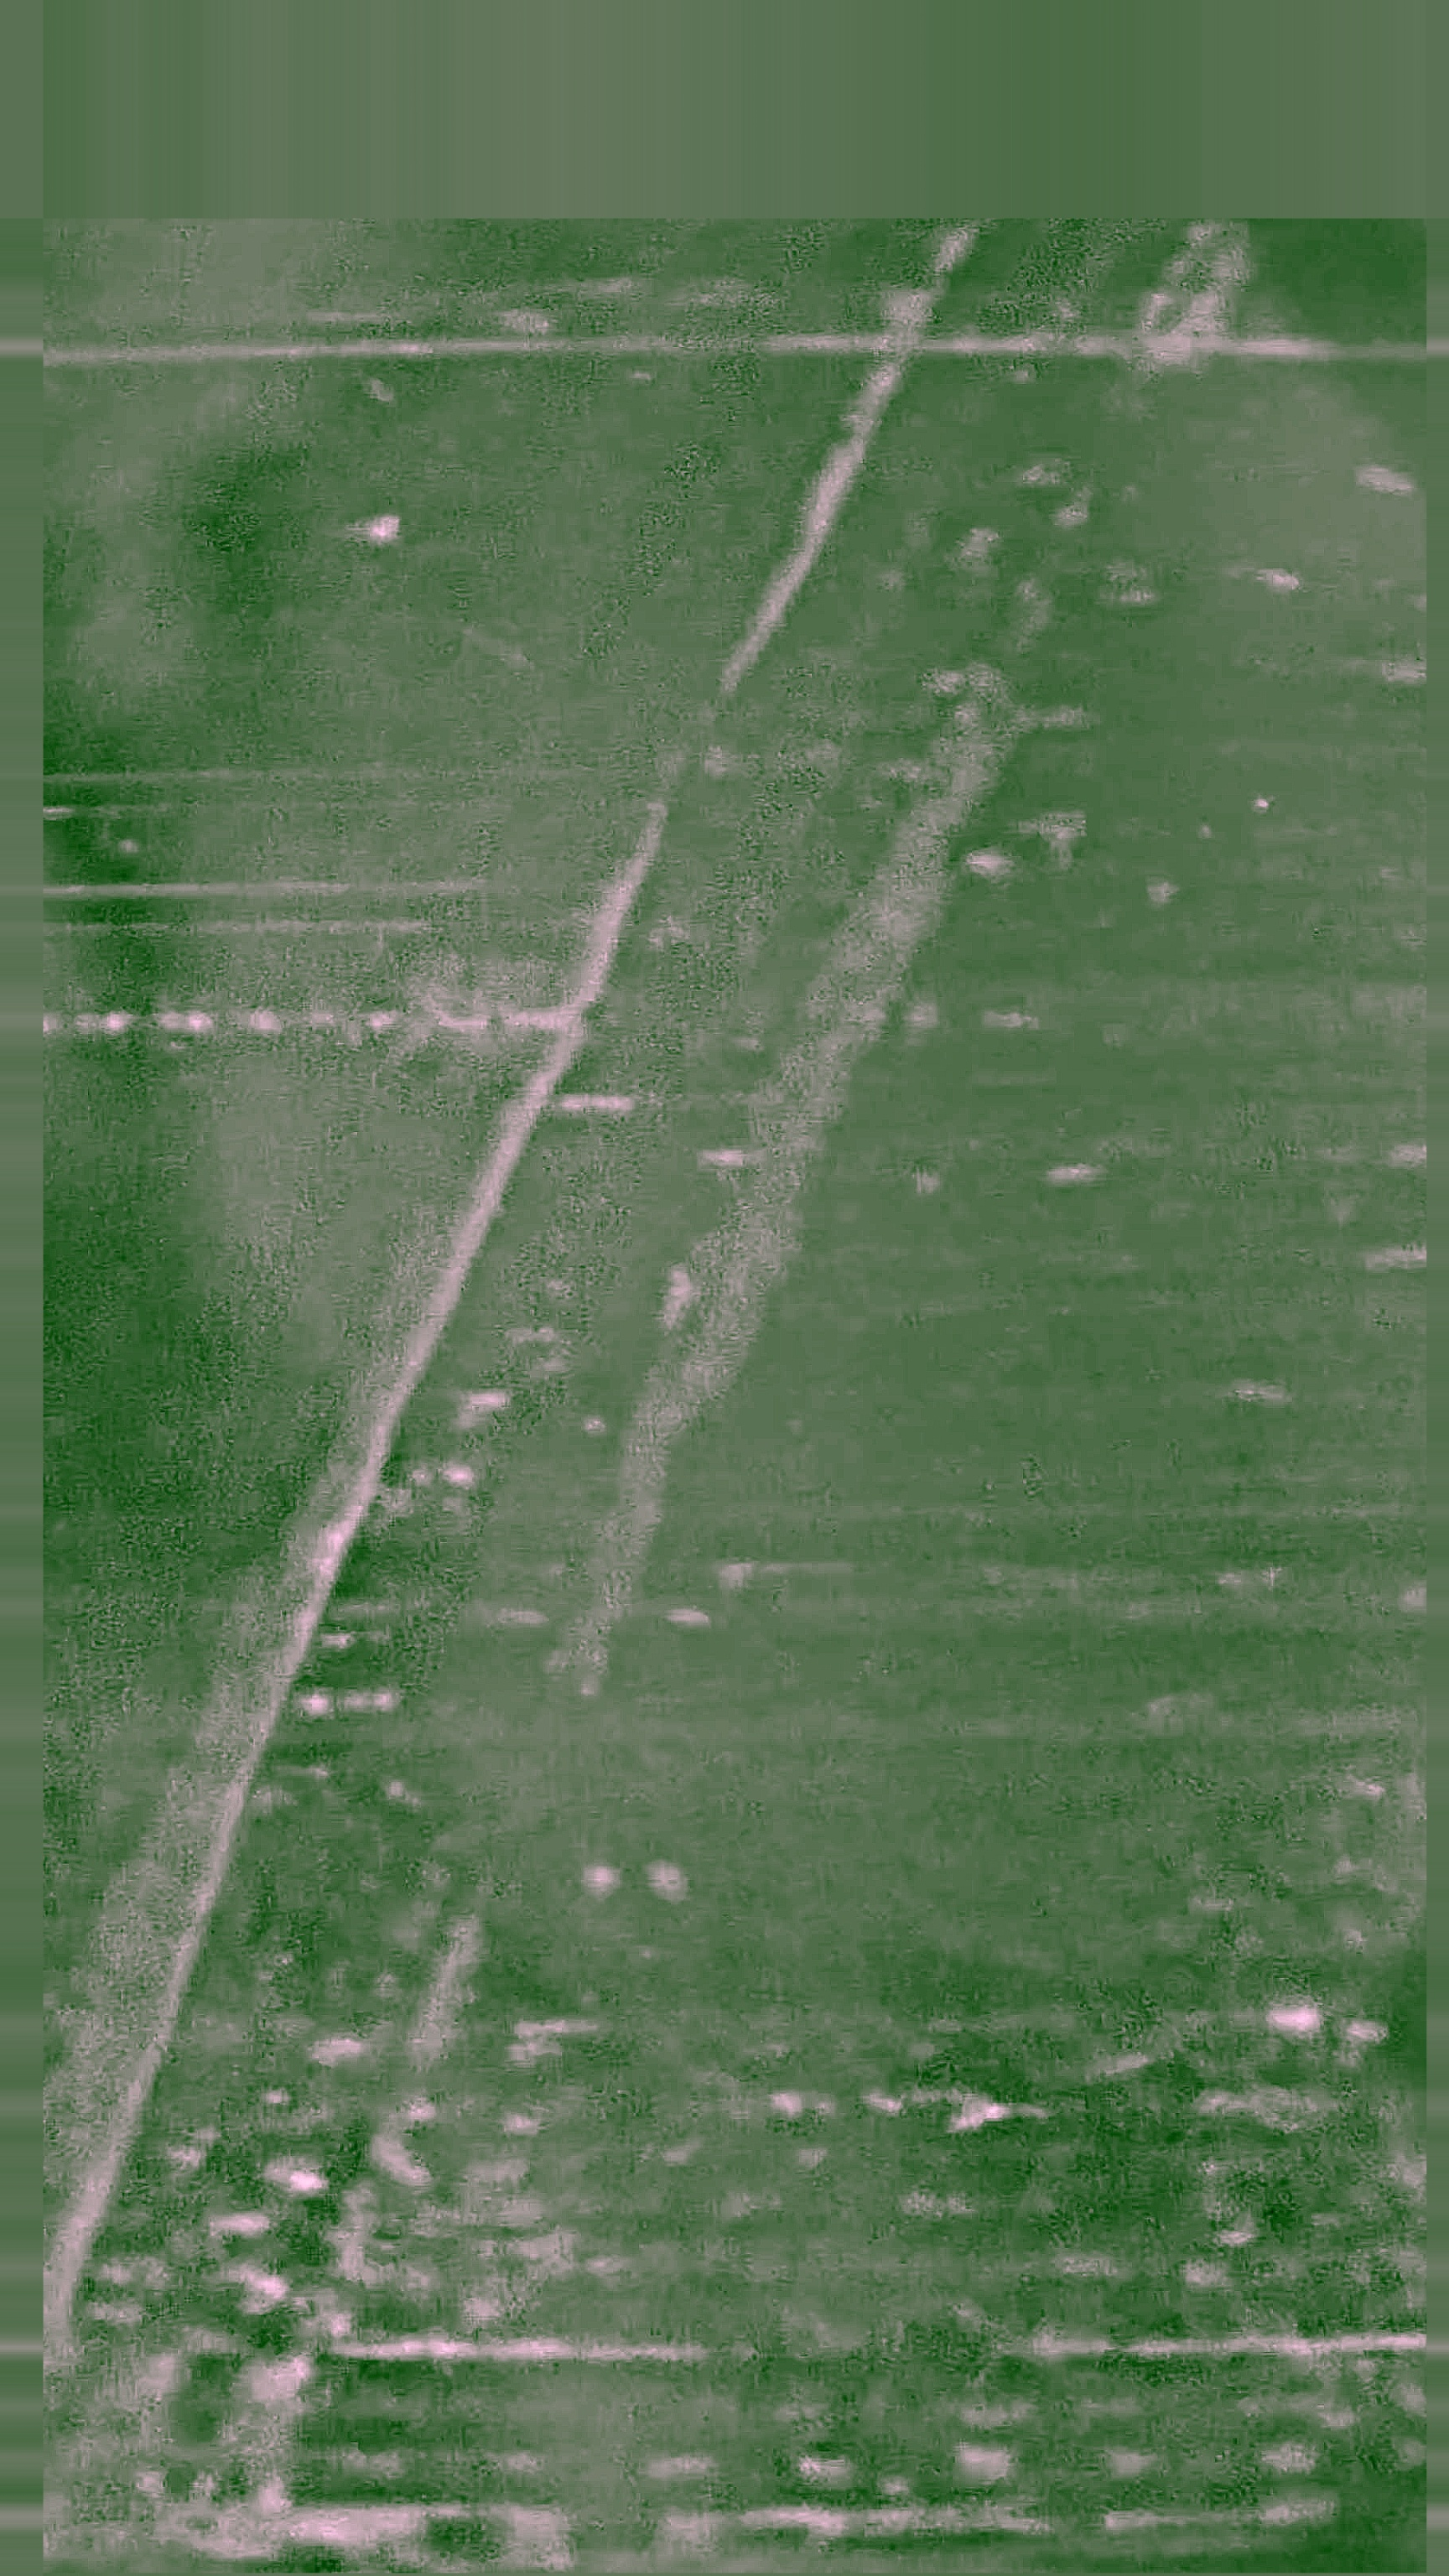splice_vulcanized: (42, 218, 1244, 2571)
